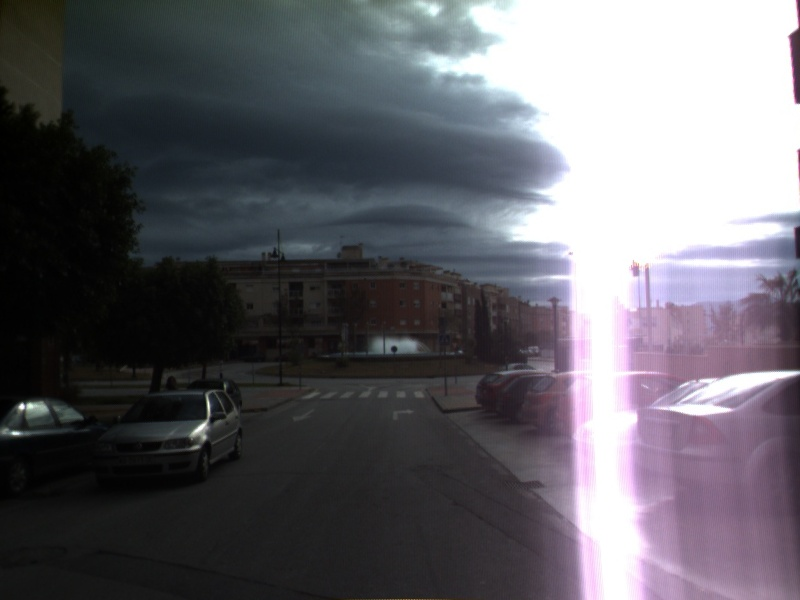RIGHT: (390, 406, 417, 422)
